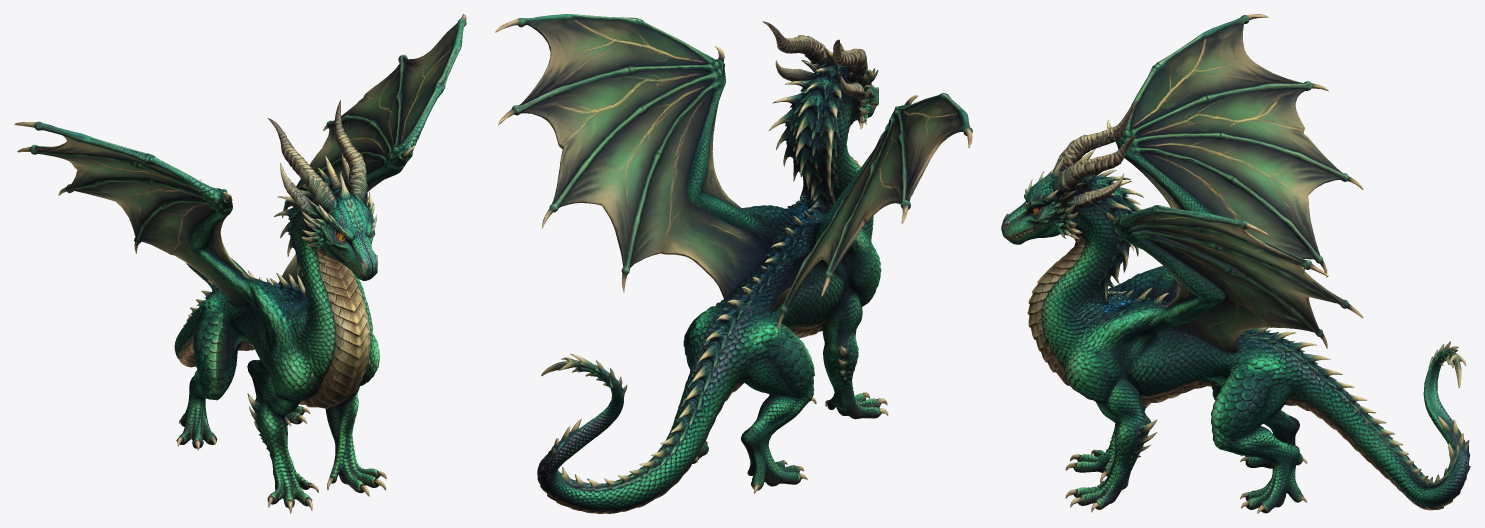
Rendered from dragon__emerald-dragon.glb.
3 renders of one model, left to right at view 1: azimuth 30°, elevation 25°; view 2: azimuth 150°, elevation 25°; view 3: azimuth 270°, elevation 25°, orthographic. The views are drawn at different scales.
Size of the model in its own units: 1.9 by 1.49 by 1.73.
1 material, 1 textured.
